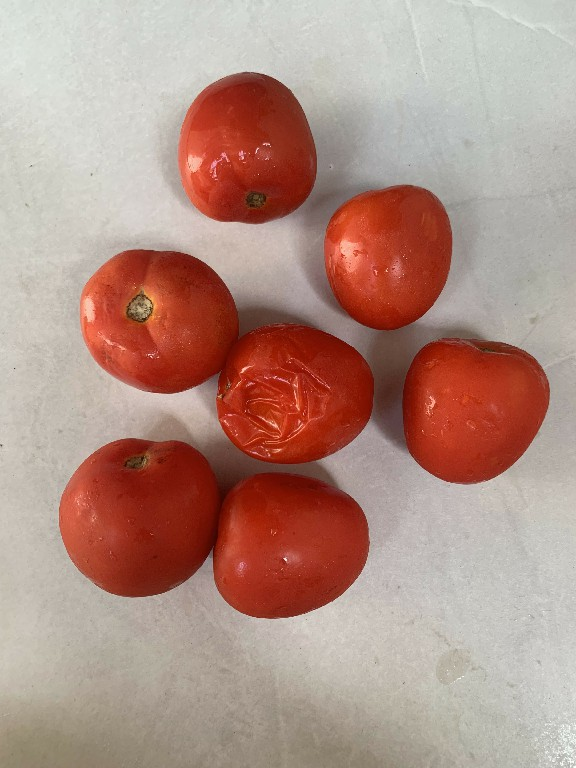NG: (212, 316, 377, 465)
OK: (49, 433, 215, 604), (74, 241, 248, 396), (216, 470, 379, 618), (397, 333, 552, 488), (322, 180, 459, 335), (174, 68, 312, 221)
